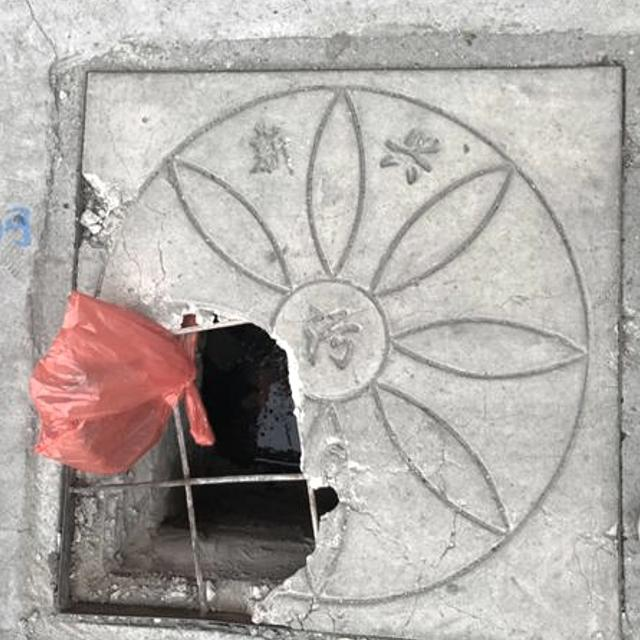broke: (0, 11, 640, 640)
